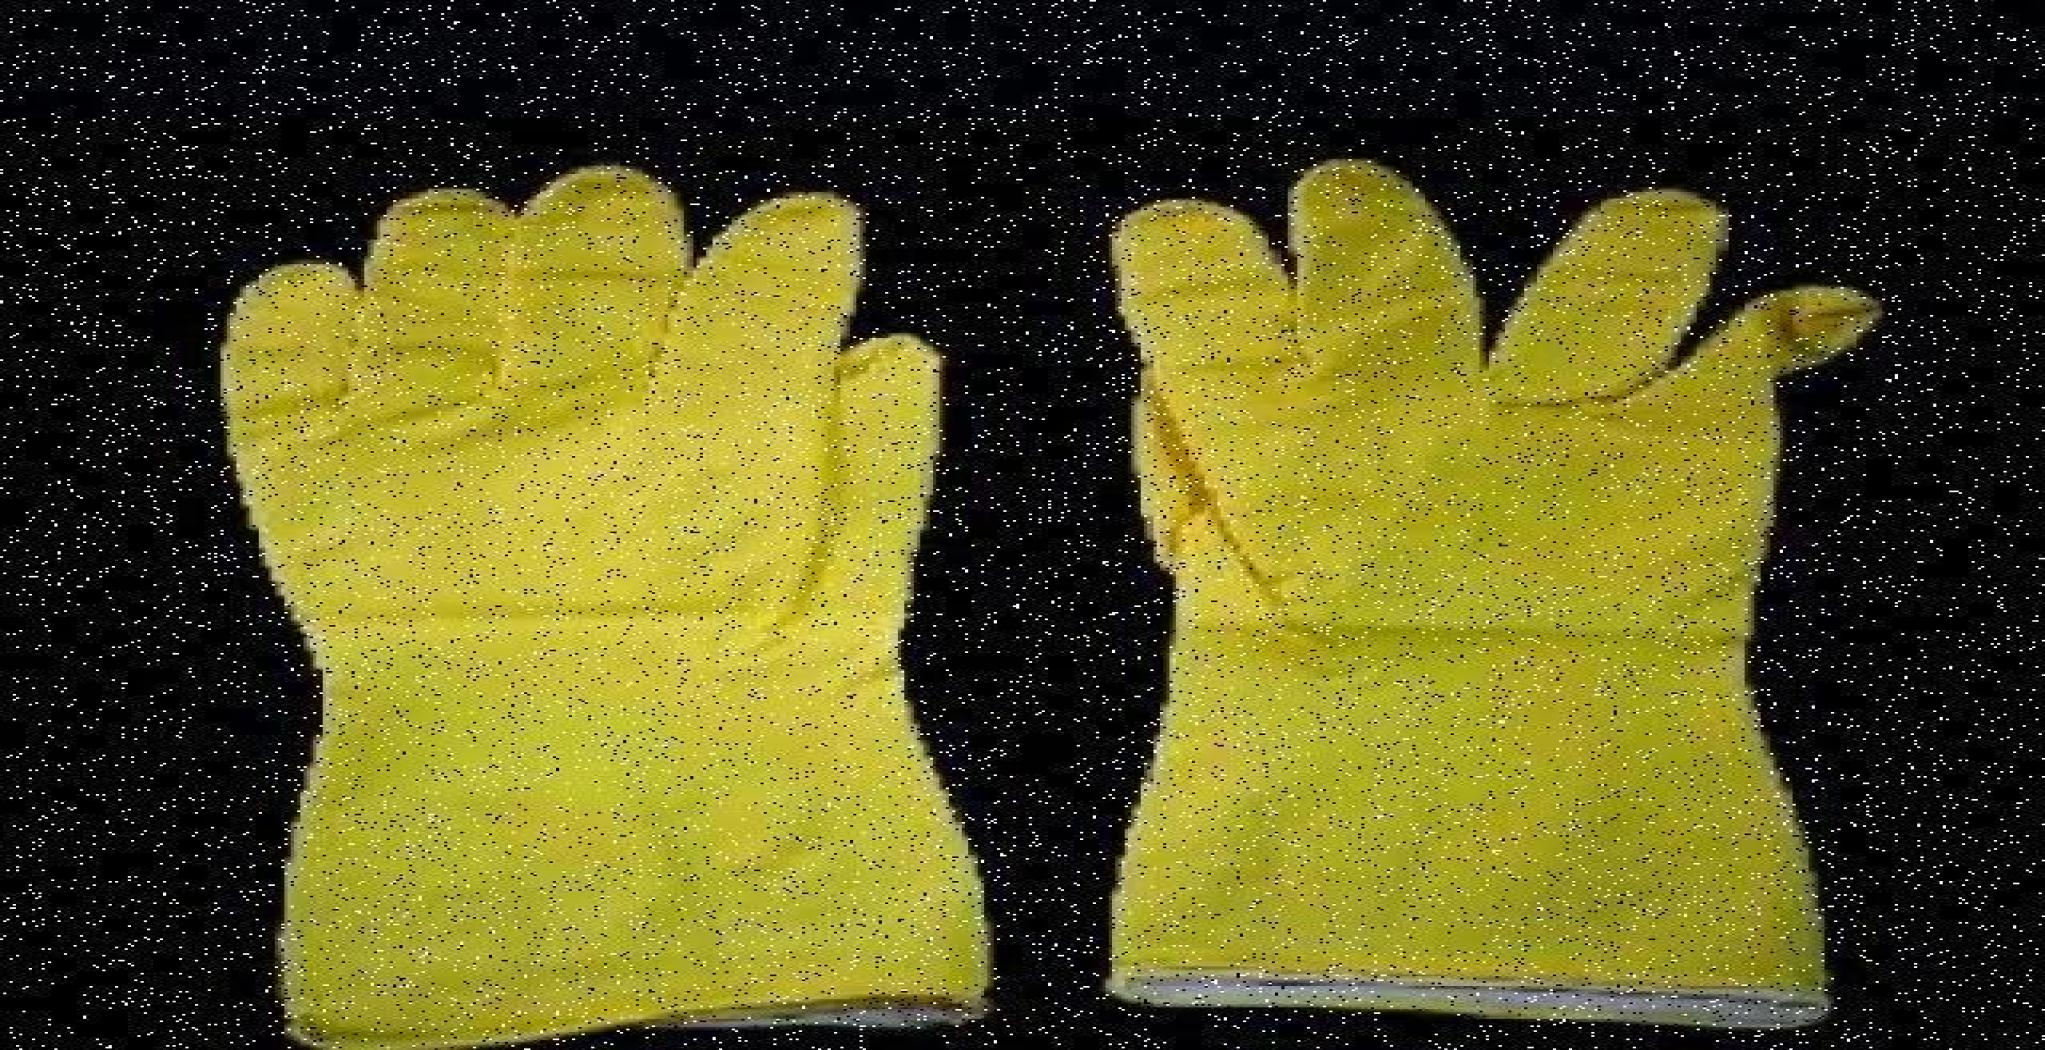gloved: (217, 163, 994, 1049), (1100, 155, 1882, 1027)
